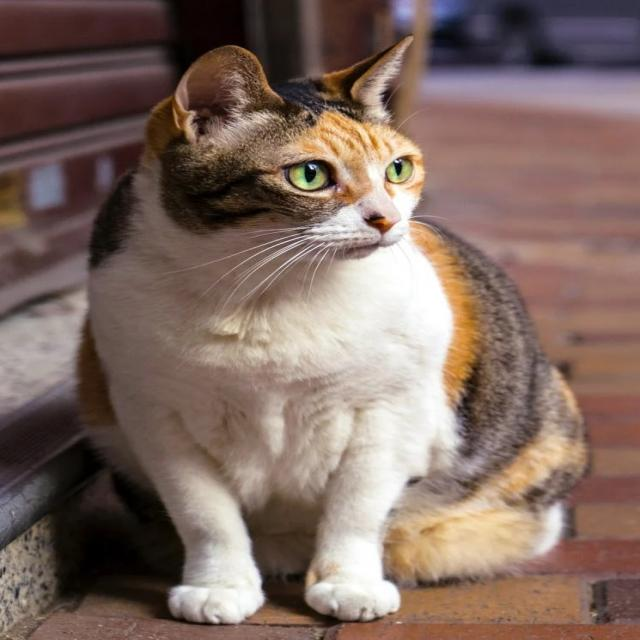cat: (73, 23, 593, 626)
